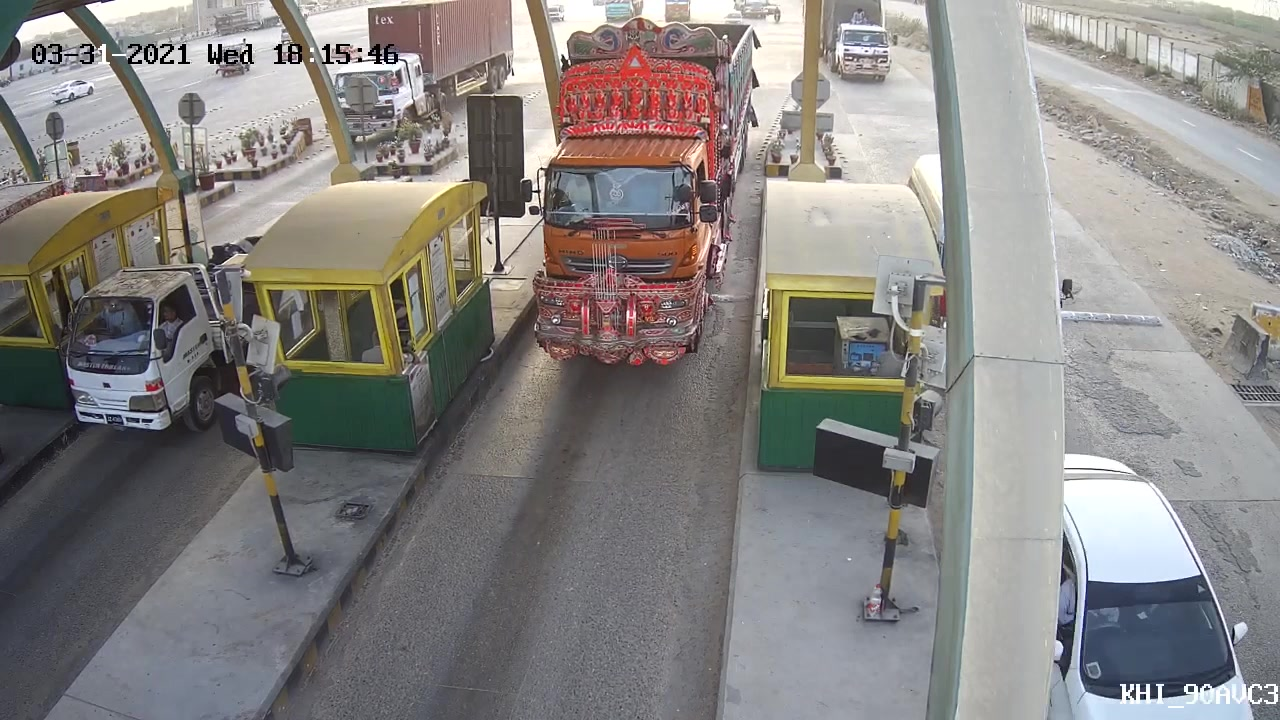F5: (523, 5, 764, 371)
